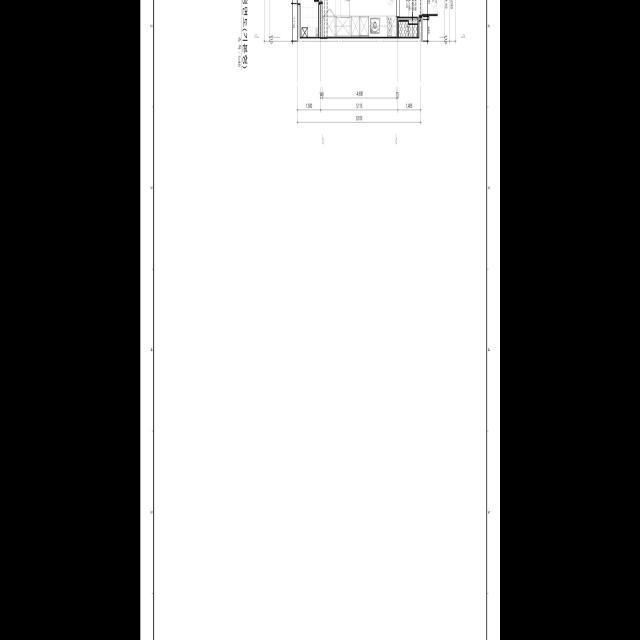background: (140, 0, 500, 640)
space_balconi: (300, 0, 318, 37)
space_bedroom: (322, 0, 397, 37)
space_front: (396, 0, 422, 17)
space_kitchen: (369, 16, 396, 37)
space_other: (399, 22, 417, 37), (302, 28, 307, 37)
